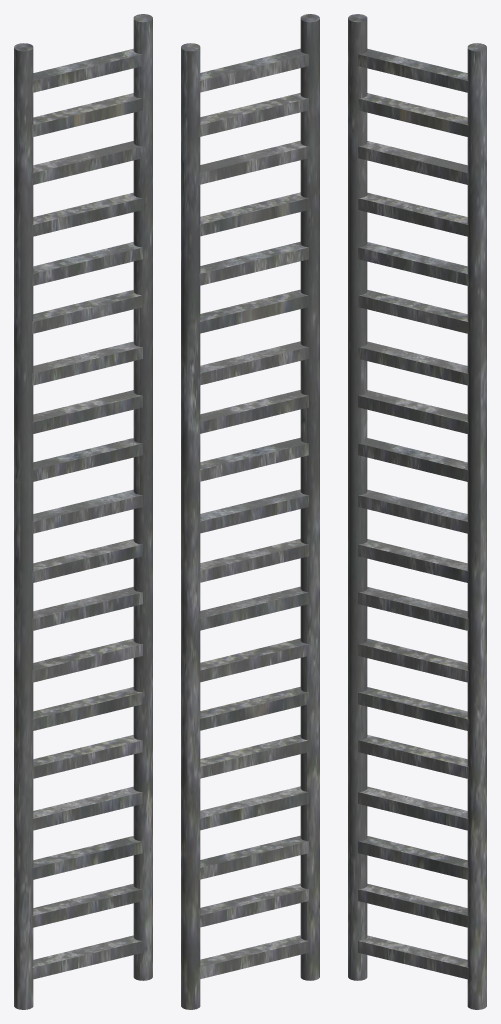
The model's file is ladder.FBX.
The picture shows the model from 3 angles, left to right: view 1: azimuth 30°, elevation 25°; view 2: azimuth 210°, elevation 25°; view 3: azimuth 330°, elevation 25°; orthographic projection.
Visible parts, largest first — view 1: Cylinder001; view 2: Cylinder001; view 3: Cylinder001.
Part boxes in pixels (box(x1,y1,x2,y2)): Cylinder001: box(14, 14, 152, 1009); Cylinder001: box(181, 14, 319, 1009); Cylinder001: box(348, 14, 486, 1009).
Size of the model in its own units: 66.85 by 449 by 8.17.
1 material, 1 textured.
